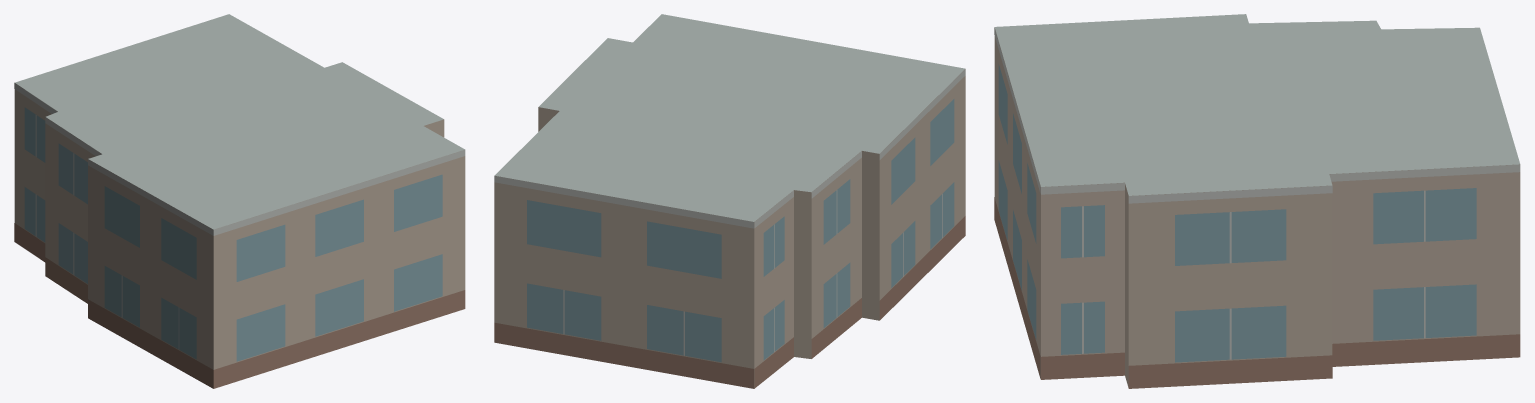
The model's file is survey-upis-32803339.glb.
3 views of the same model, side by side, from view 1: azimuth 30°, elevation 25°; view 2: azimuth 150°, elevation 25°; view 3: azimuth 270°, elevation 25° (orthographic). The views are drawn at different scales.
Parts seen in each view (by area): view 1: survey-upis-32803339.tmp; view 2: survey-upis-32803339.tmp; view 3: survey-upis-32803339.tmp.
Part boxes in pixels (x1=…): survey-upis-32803339.tmp: x1=14, y1=14, x2=465, y2=388; survey-upis-32803339.tmp: x1=494, y1=14, x2=965, y2=388; survey-upis-32803339.tmp: x1=994, y1=14, x2=1520, y2=388.
Size of the model in its own units: 12.35 by 6.1 by 15.08.
